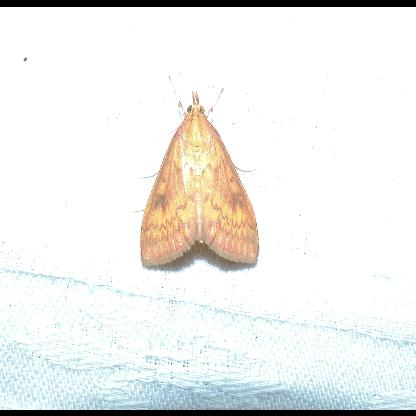Asian Corn Borer Moth: (130, 73, 262, 269)
